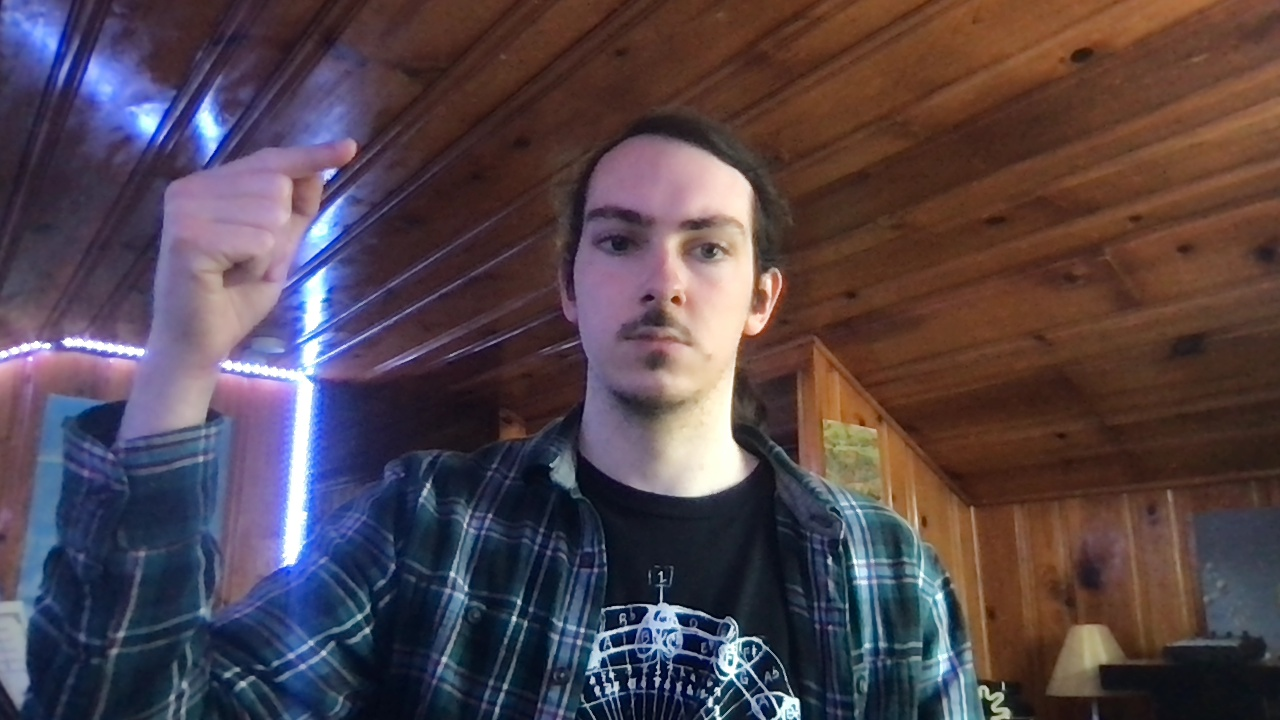g: (148, 136, 358, 361)
